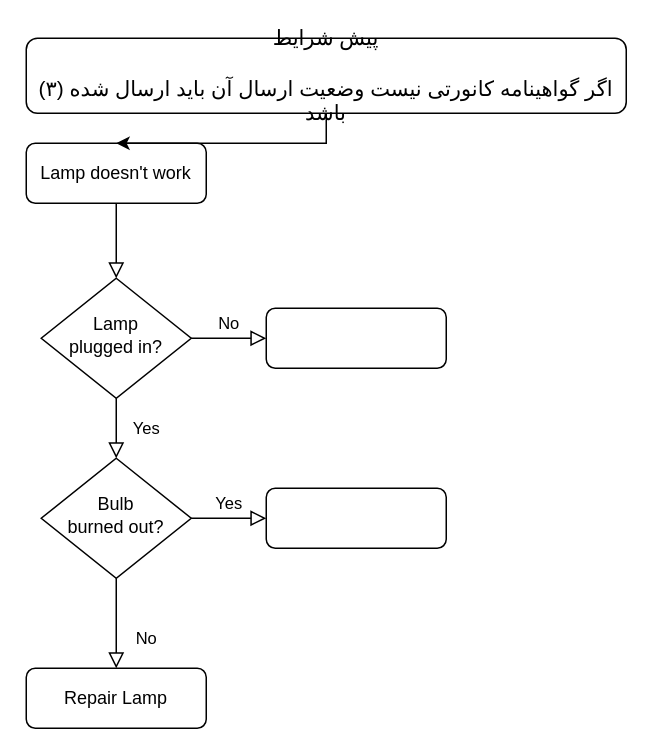
This 653x755 diagram has some shape labels left out. Each missing label, with the centre of its shape:
Plug in lamp: the point at 355,337
Replace Bulb: the point at 355,517
